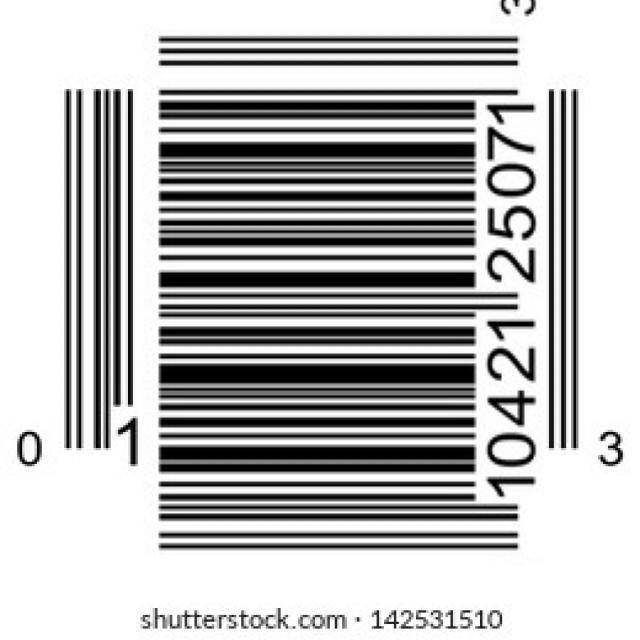Barkod: (94, 25, 589, 520)
